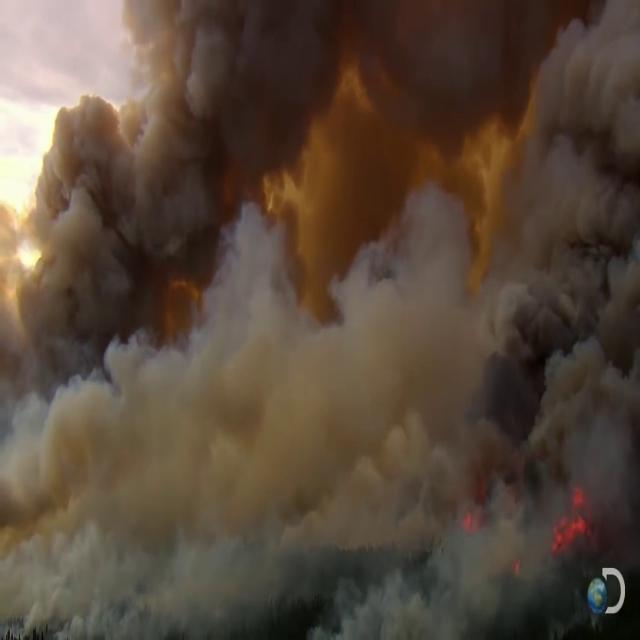Fire: (446, 489, 490, 547), (558, 486, 595, 552)
Smoke: (30, 0, 636, 438), (0, 323, 377, 640)
